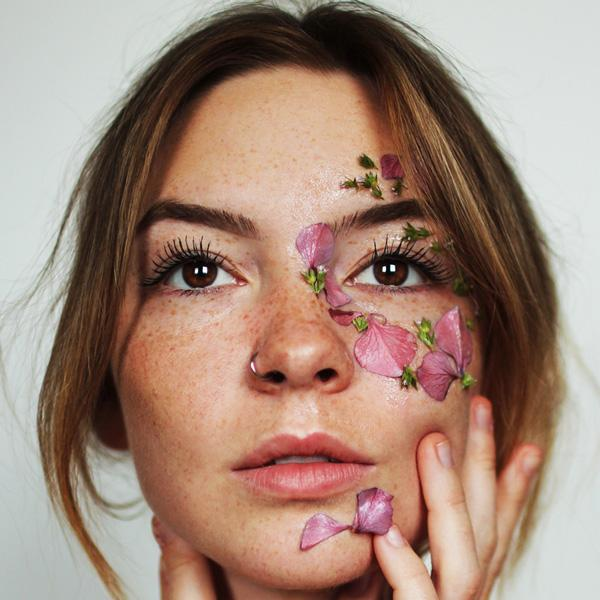Eyes: (141, 236, 255, 308), (335, 238, 448, 304)
